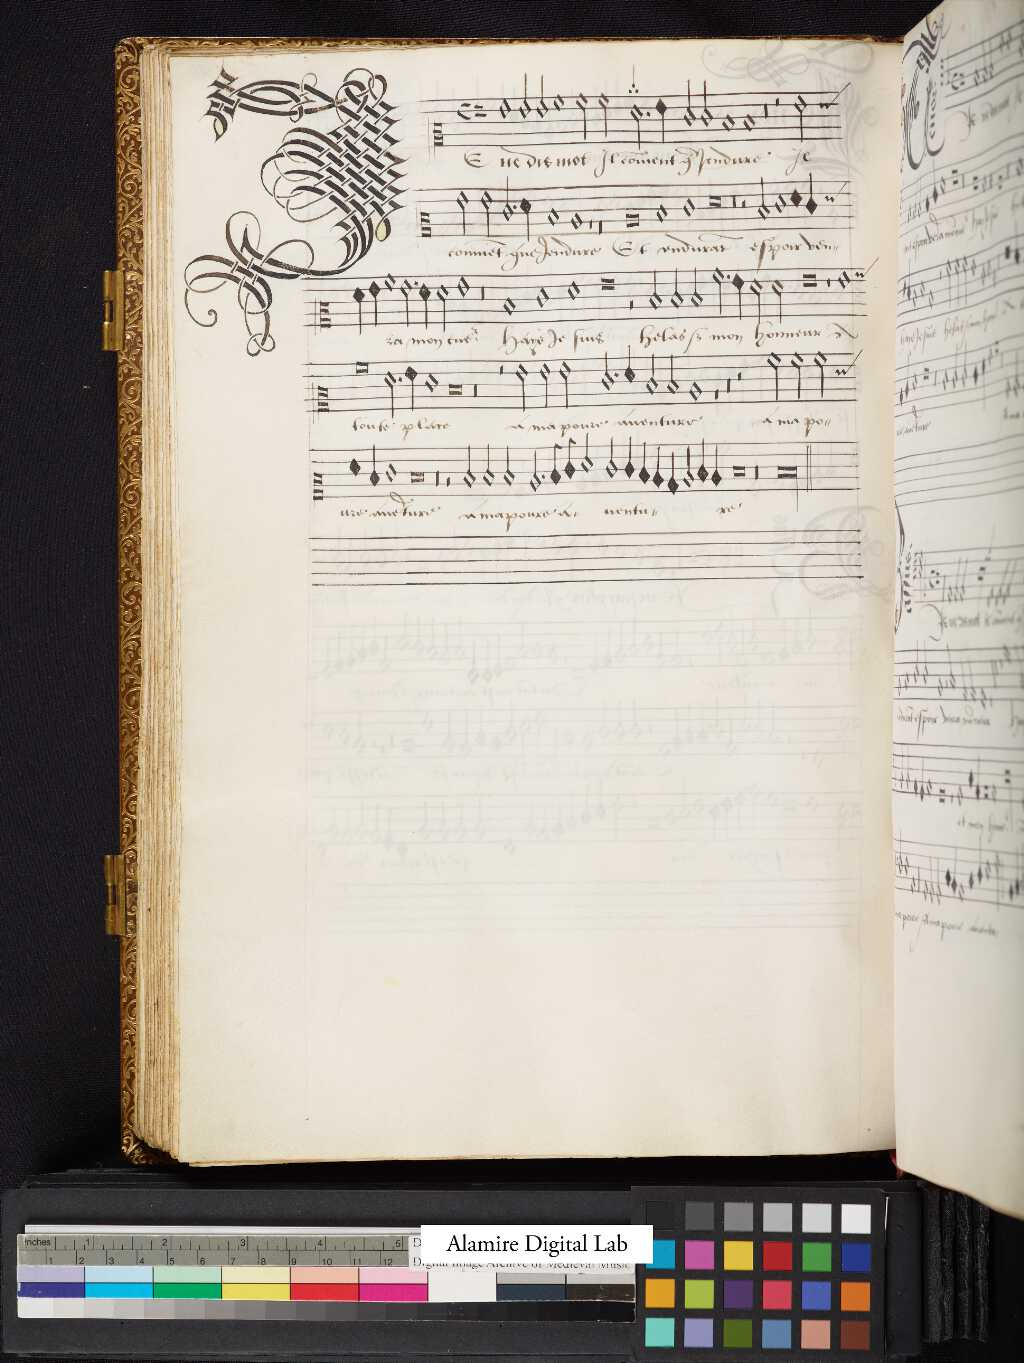barline: (801, 436, 817, 502)
breve rest: (746, 438, 764, 502), (427, 443, 443, 506)
breve_8: (406, 462, 428, 493), (729, 454, 750, 485)
c clef_9: (305, 459, 329, 516)
colored semibreve_6: (344, 448, 365, 483)
fusa_7: (565, 430, 577, 485)
fusa_8: (550, 434, 561, 491)
longa_8: (772, 455, 803, 511)
minim rest: (442, 444, 455, 507)
minim_6: (578, 425, 594, 477)
minim_7: (603, 429, 620, 484)
minim_8: (460, 435, 477, 494), (480, 434, 496, 491), (501, 436, 512, 491)
minim_9: (526, 437, 542, 497), (681, 437, 696, 492)
point: (537, 466, 549, 486)
semibreve_7: (383, 455, 400, 489)
semiminim_10: (666, 445, 681, 502)
semiminim_7: (623, 430, 637, 485)
semiminim_8: (367, 437, 383, 493), (636, 434, 651, 489), (696, 434, 709, 487)
semiminim_9: (651, 438, 665, 495), (709, 439, 724, 492)
